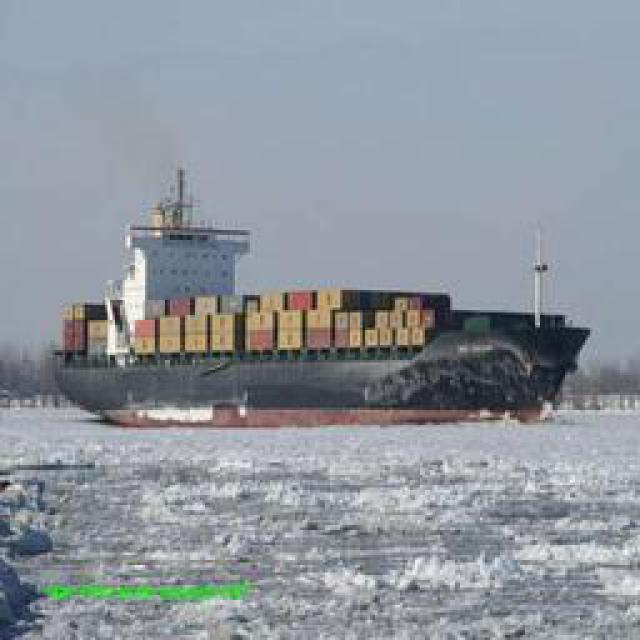Ship: (54, 176, 589, 419)
